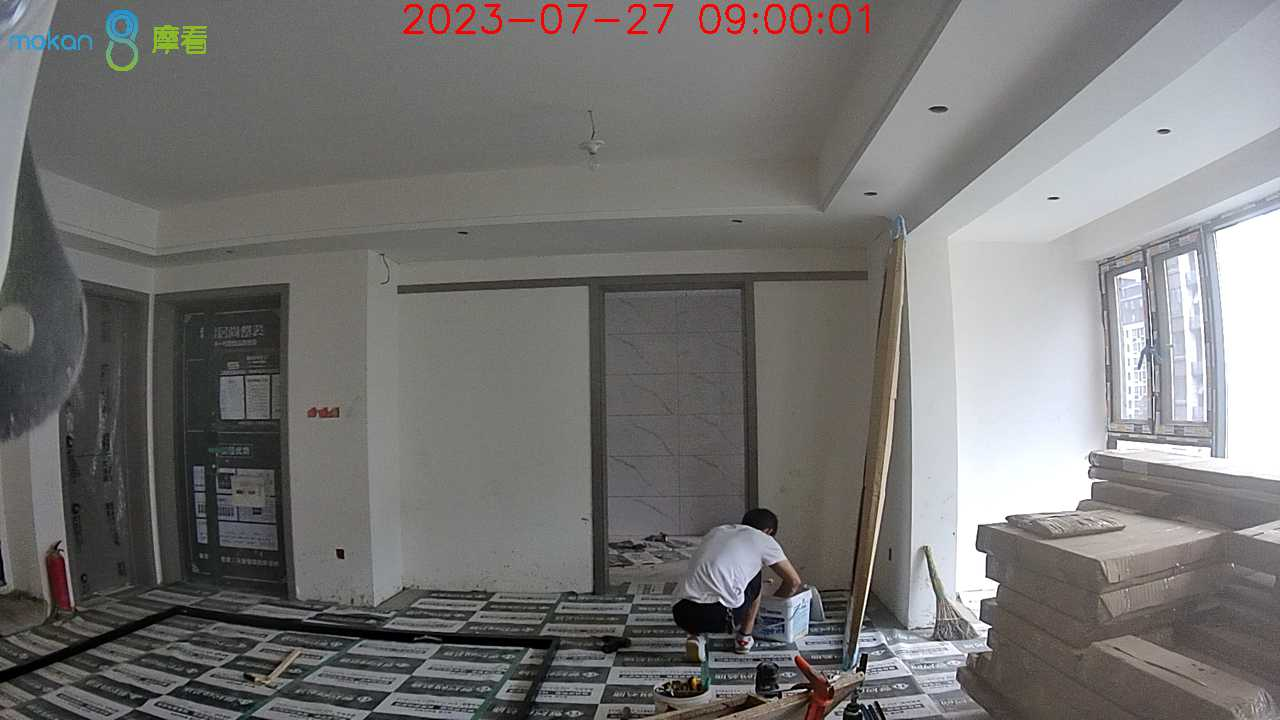people: (674, 501, 787, 655)
window: (1096, 214, 1280, 445)
